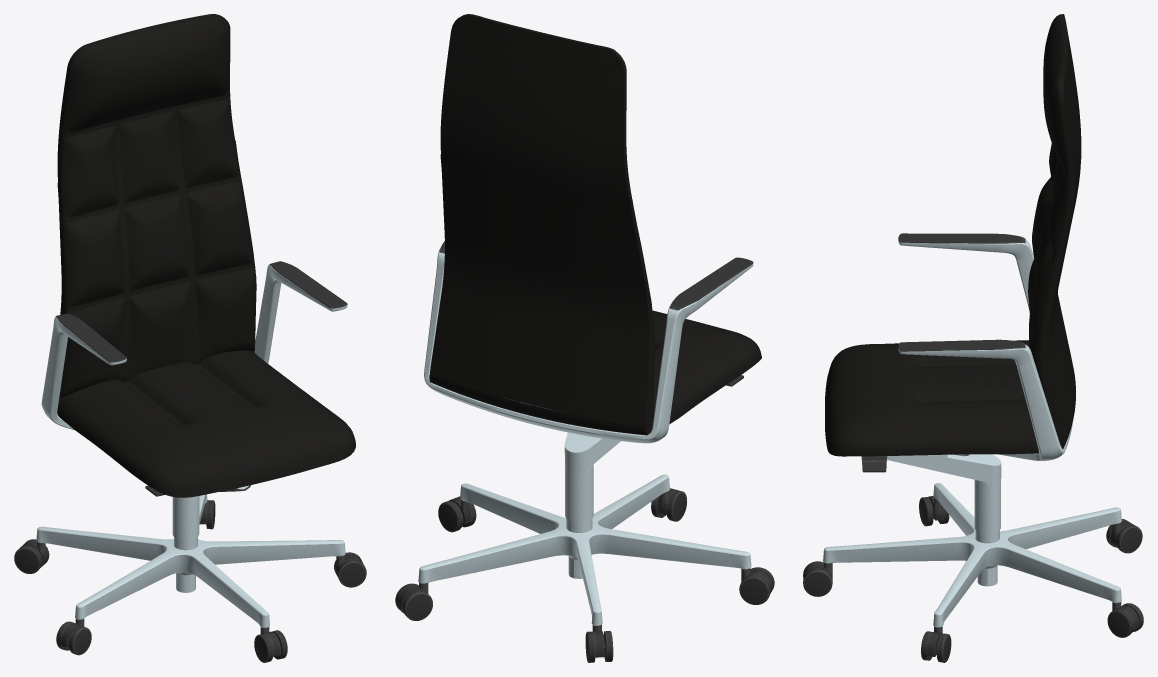
3 renders of one model, left to right at view 1: azimuth 30°, elevation 25°; view 2: azimuth 150°, elevation 25°; view 3: azimuth 270°, elevation 25°, orthographic. The views are drawn at different scales.
Visible parts, largest first — view 1: defaultMaterial (×2), skechup2_1; view 2: defaultMaterial (×2), skechup2_1; view 3: defaultMaterial (×2), skechup2_1.
Part boxes in pixels (bbox=[...]): defaultMaterial (×2): bbox=[14, 14, 366, 662]; skechup2_1: bbox=[36, 264, 347, 627]; defaultMaterial (×2): bbox=[395, 14, 774, 662]; skechup2_1: bbox=[418, 248, 753, 625]; defaultMaterial (×2): bbox=[803, 14, 1143, 662]; skechup2_1: bbox=[823, 239, 1121, 627].
Size of the model in its own units: 0.7547 by 1.27 by 0.7196.
3 materials, 3 textured.
